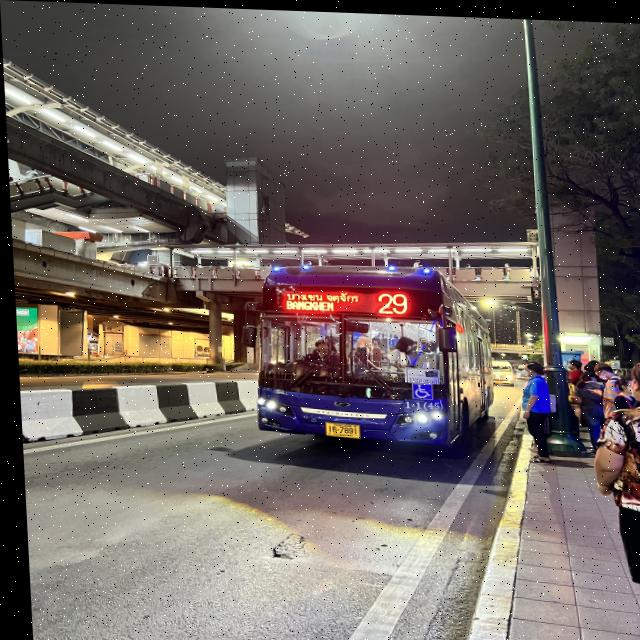Bus Line Number: (367, 286, 412, 316)
Bus Side Number: (397, 396, 441, 409)
Destination Sign: (278, 285, 361, 313)
TSB-Bus: (252, 264, 488, 449)
